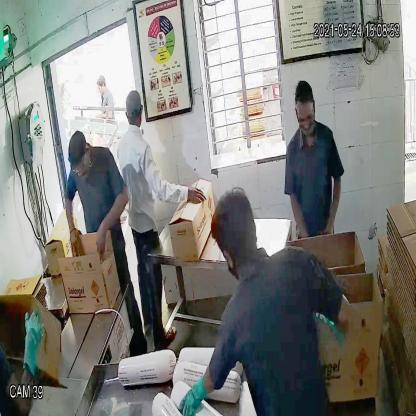goggles: (292, 110, 317, 129)
